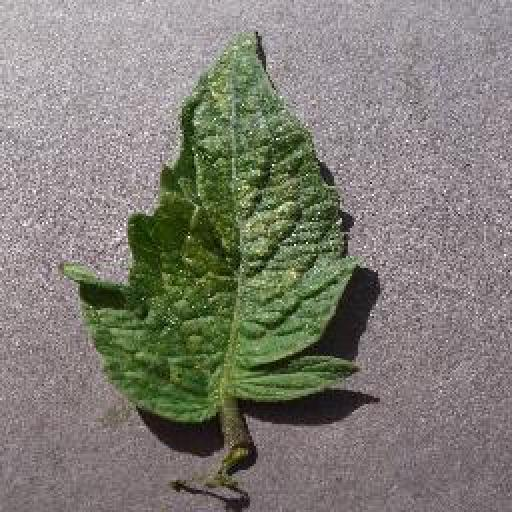disease_tomato: (68, 24, 360, 424)
